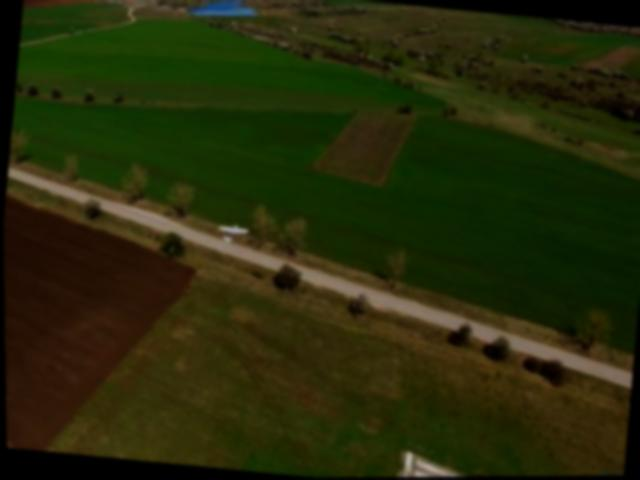uav: (212, 214, 253, 250)
